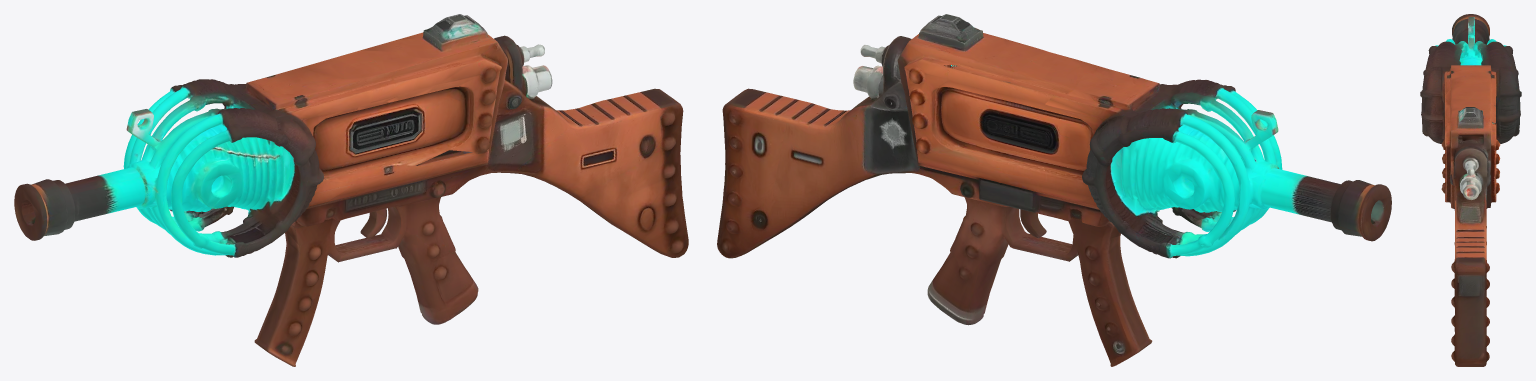
Rendered from static_coil_gun_static.glb.
3 renders of one model, left to right at view 1: azimuth 30°, elevation 25°; view 2: azimuth 150°, elevation 25°; view 3: azimuth 270°, elevation 25°, orthographic. The views are drawn at different scales.
Bounding box in the file's own units: 1.91 × 0.8507 × 0.3897.
Materials: 1 (1 with a texture image).
